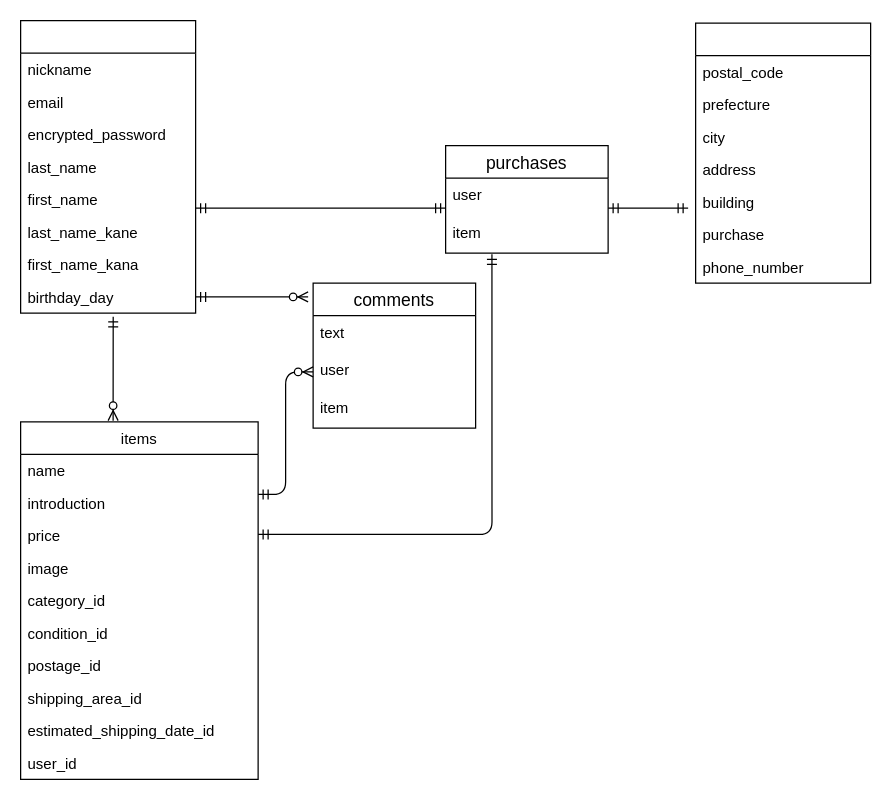
Image size: 891x800. Some labels were removed from this diagram. Here are the shapes that lost their labels. From the top down, the box of each, then its label:
(19, 19, 196, 313): users
(694, 22, 871, 283): addresses
